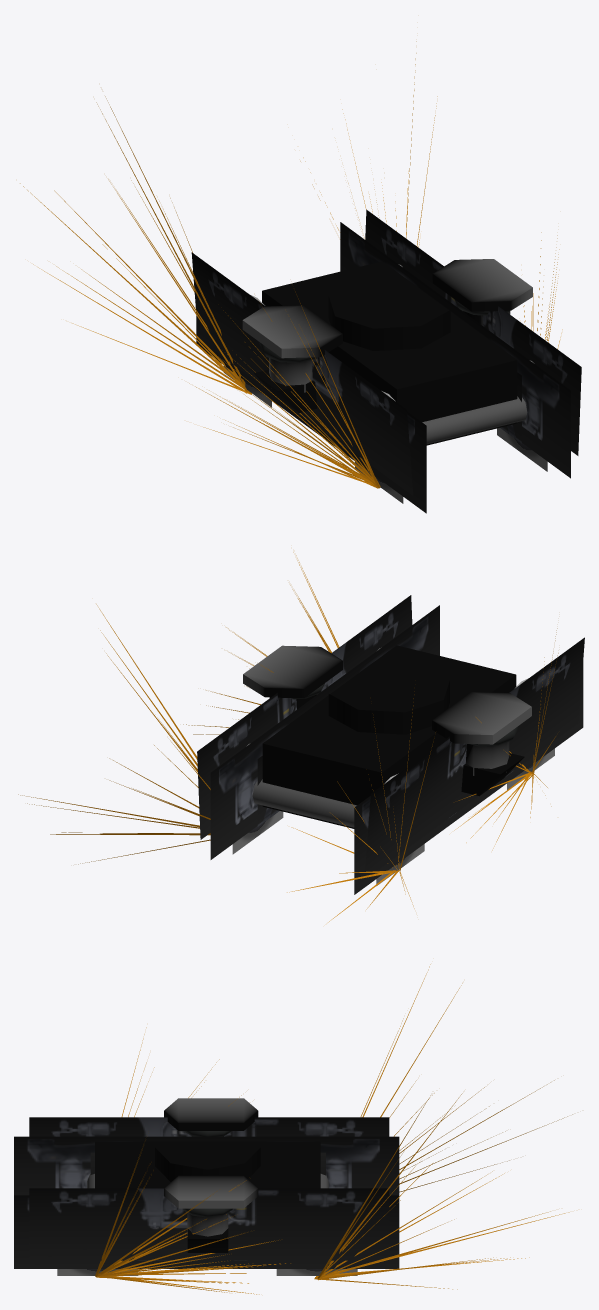
The model's file is JR2000_TRACK_LOW_N.glb.
3 views of the same model, one above another, from view 1: azimuth 30°, elevation 25°; view 2: azimuth 150°, elevation 25°; view 3: azimuth 270°, elevation 25° (orthographic). The views are drawn at different scales.
Parts seen in each view (by area): view 1: trackbase, OBJ2, Fire1_R_1, Fire0_R_0, OBJ; view 2: trackbase, OBJ2, OBJ, Fire1_L_0, Fire1_R_1, Fire0_R_0; view 3: trackbase, OBJ2, Fire1_L_1, Fire0_L_0, Fire0_L_1, OBJ, Fire1_R_0.
Boxes of the visible parts, left/top/right/bottom form: trackbase: left=191, top=209, right=581, bottom=513; OBJ2: left=242, top=259, right=532, bottom=362; Fire1_R_1: left=23, top=100, right=251, bottom=394; Fire0_R_0: left=195, top=291, right=380, bottom=488; OBJ: left=254, top=311, right=510, bottom=412; trackbase: left=197, top=595, right=584, bottom=894; OBJ2: left=243, top=645, right=531, bottom=746; OBJ: left=296, top=694, right=524, bottom=796; Fire1_L_0: left=27, top=609, right=210, bottom=863; Fire1_R_1: left=289, top=702, right=413, bottom=922; Fire0_R_0: left=454, top=719, right=539, bottom=850; trackbase: left=14, top=1117, right=399, bottom=1275; OBJ2: left=164, top=1098, right=258, bottom=1217; Fire1_L_1: left=314, top=1094, right=568, bottom=1289; Fire0_L_0: left=96, top=1146, right=285, bottom=1294; Fire0_L_1: left=95, top=1144, right=285, bottom=1294; OBJ: left=187, top=1136, right=228, bottom=1252; Fire1_R_0: left=361, top=978, right=563, bottom=1192.
Size of the model in its own units: 9.19 by 6.14 by 14.07.
17 materials, 8 textured.
